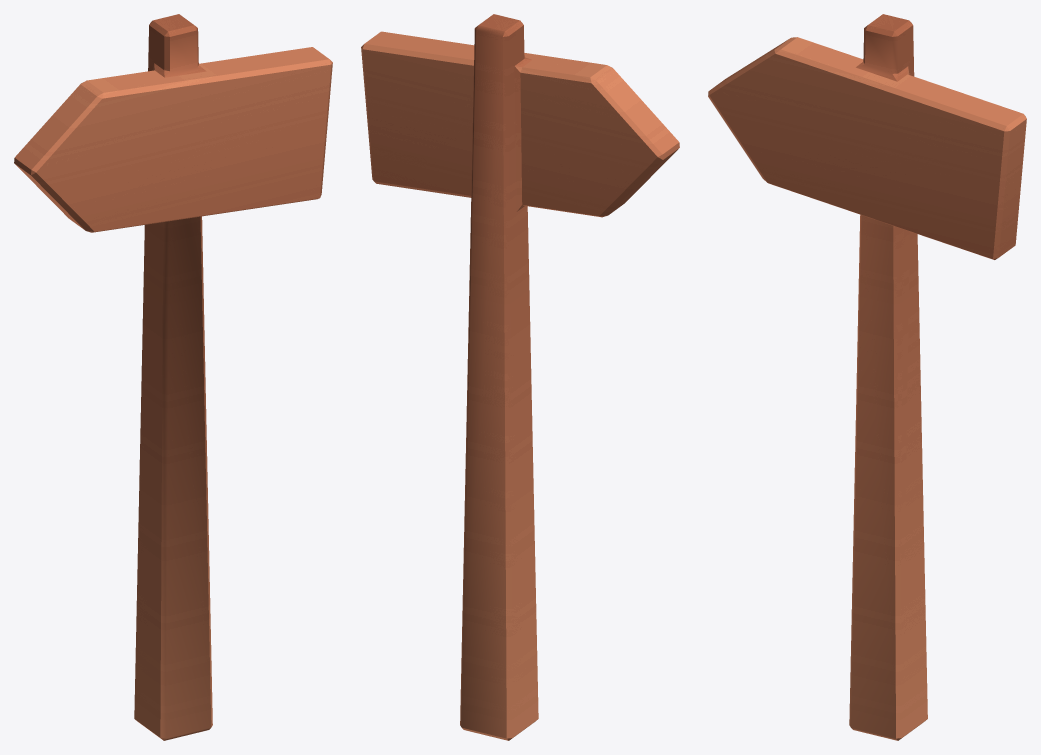
The model's file is town_signpost_sample.glb.
3 renders of one model, left to right at view 1: azimuth 30°, elevation 25°; view 2: azimuth 150°, elevation 25°; view 3: azimuth 330°, elevation 25°, orthographic.
Parts seen in each view (by area): view 1: TownSignpostSample; view 2: TownSignpostSample; view 3: TownSignpostSample.
Part boxes in pixels (left/top/right/bottom): TownSignpostSample: left=14, top=14, right=332, bottom=740; TownSignpostSample: left=361, top=14, right=679, bottom=740; TownSignpostSample: left=708, top=14, right=1026, bottom=740.
Size of the model in its own units: 0.517 by 1.15 by 0.1074.
1 material, 1 textured.
